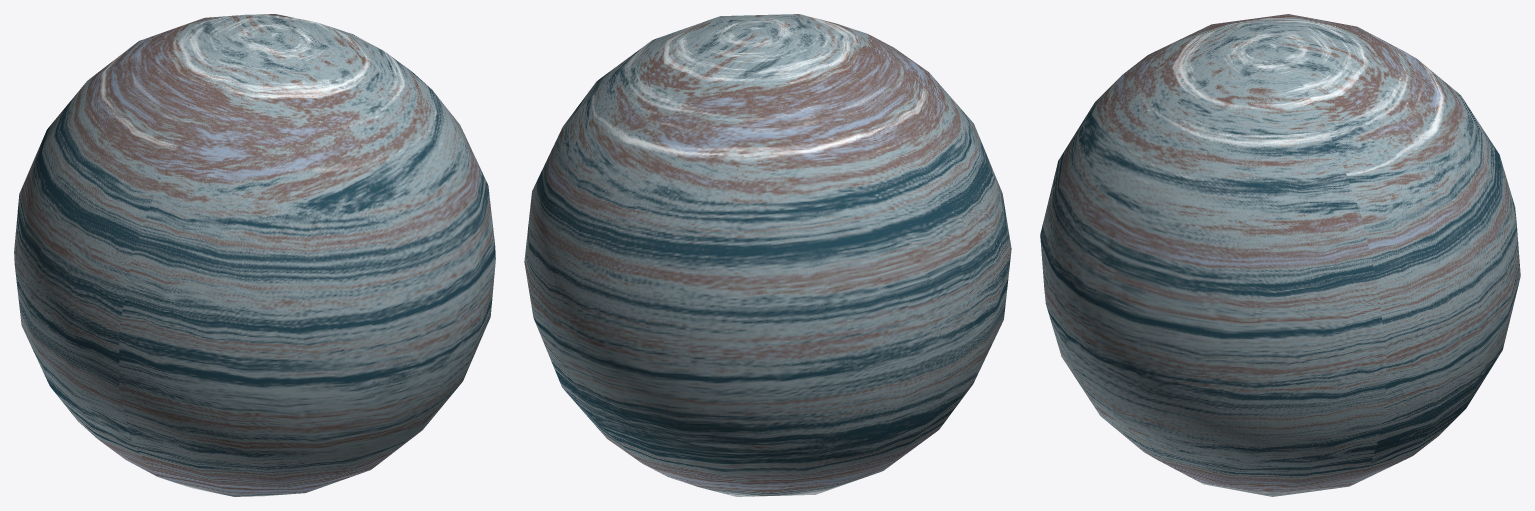
Rendered from gas_giant_2.glb.
3 renders of one model, left to right at view 1: azimuth 30°, elevation 25°; view 2: azimuth 150°, elevation 25°; view 3: azimuth 270°, elevation 25°, orthographic.
Visible parts, largest first — view 1: gas_giant_2; view 2: gas_giant_2; view 3: gas_giant_2.
Part boxes in pixels (x1,y1,x2,y2): gas_giant_2: [14, 14, 495, 496]; gas_giant_2: [524, 14, 1011, 496]; gas_giant_2: [1040, 14, 1520, 496].
Bounding box in the file's own units: 1.6 × 1.61 × 1.61.
1 material, 1 textured.
